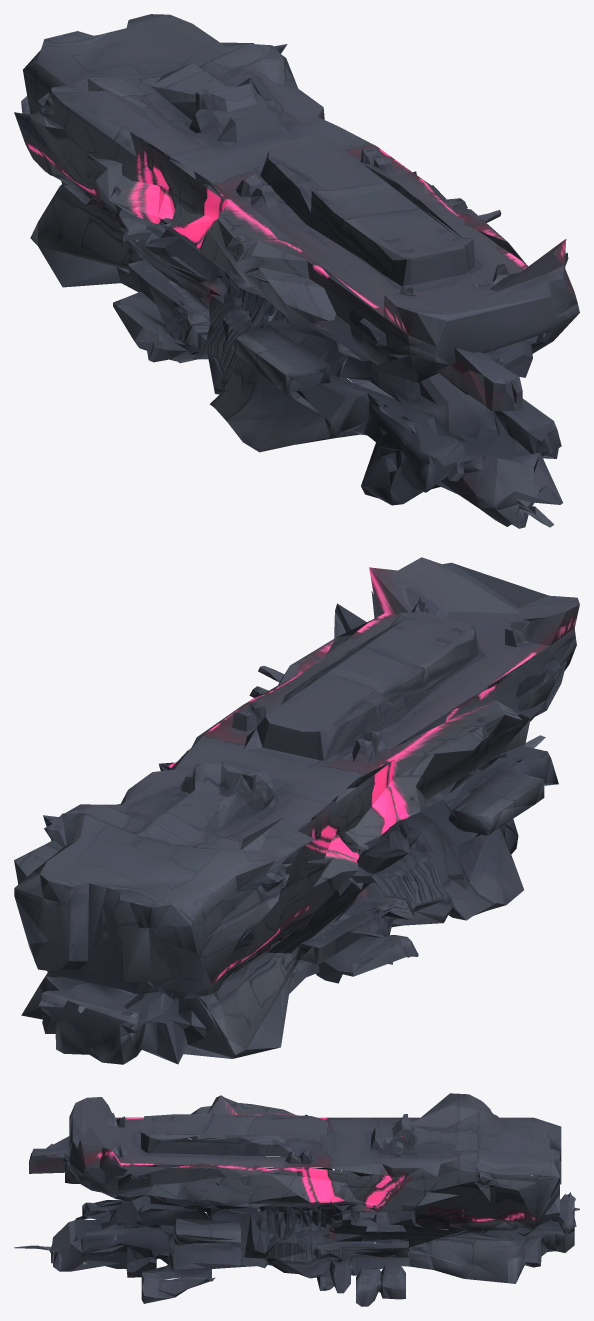
File: ipc.glb
The picture shows the model from 3 angles, top to bottom: view 1: azimuth 30°, elevation 25°; view 2: azimuth 150°, elevation 25°; view 3: azimuth 270°, elevation 25°; orthographic projection. The views are drawn at different scales.
Visible parts, largest first — view 1: IPC_Cruiser; view 2: IPC_Cruiser; view 3: IPC_Cruiser.
Part boxes in pixels (x1,y1,x2,y2): IPC_Cruiser: [14, 14, 579, 528]; IPC_Cruiser: [14, 557, 579, 1064]; IPC_Cruiser: [14, 1093, 579, 1306].
Bounding box in the file's own units: 9.96 × 7.33 × 25.4.
1 material, 1 textured.
